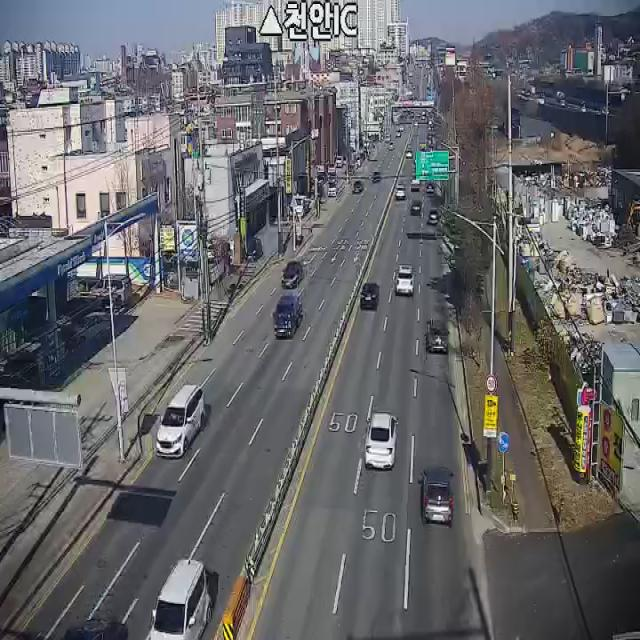Car: (145, 559, 212, 640), (156, 385, 206, 458), (364, 414, 398, 471), (421, 466, 454, 523), (89, 271, 133, 305), (426, 319, 449, 352), (282, 261, 302, 289), (360, 282, 379, 311), (396, 265, 414, 294), (246, 237, 262, 260), (328, 178, 338, 196), (411, 200, 422, 214), (352, 180, 363, 193), (429, 209, 438, 224), (396, 185, 405, 198)
Truck: (64, 619, 128, 640), (272, 295, 302, 337)
